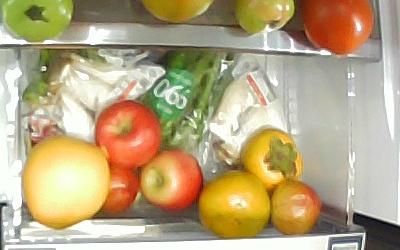apple: (95, 99, 162, 169), (140, 150, 202, 212)
grapefruit: (22, 135, 109, 229)
persimmon: (196, 166, 271, 238), (240, 127, 306, 189)
prune: (270, 178, 325, 236), (99, 166, 139, 216)
